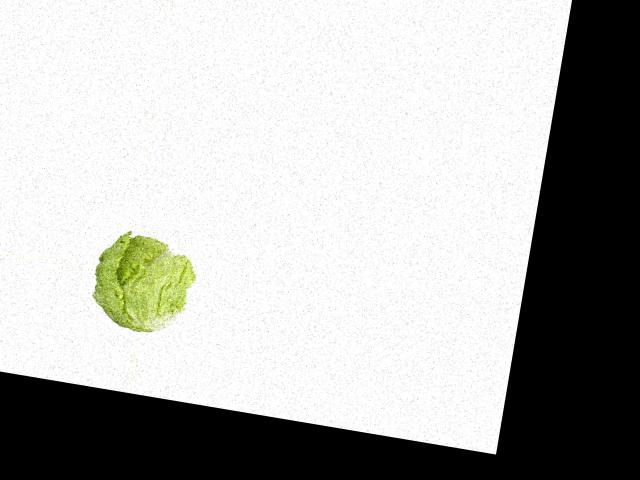lettuce: (86, 228, 197, 341)
